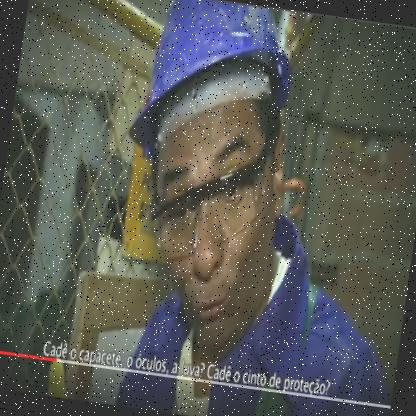capacete: (98, 0, 308, 356)
sem_colete_refletivo: (115, 224, 409, 415)
